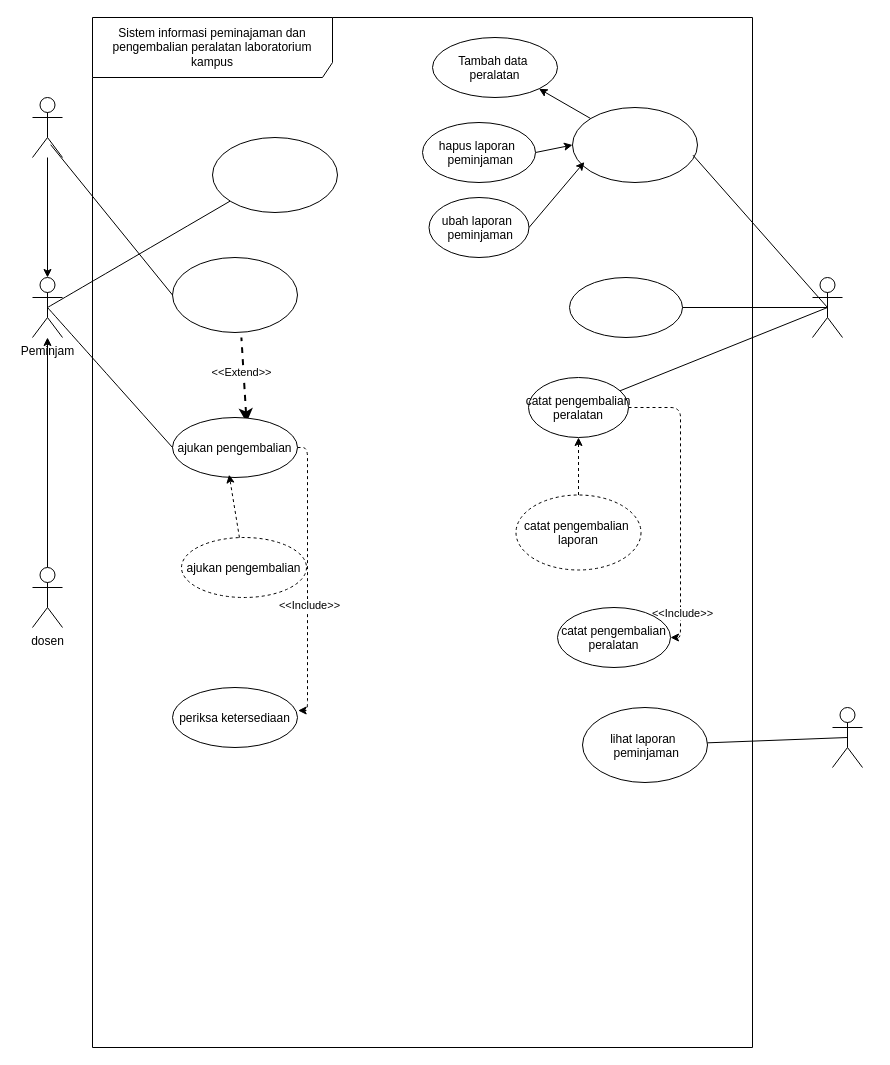
Some shapes in this 890 by 1065 pixel diagram are drawn without their labels. The centre of each missing label's shape, as x and y in pixels:
"cetak bukti pengajuan" goes at (x=235, y=294).
"Kelola data Peralatan" goes at (x=635, y=144).
"Kepala Laboran" goes at (x=847, y=737).
"Lihat Ketersediaan peralatan" goes at (x=275, y=174).
"mahasiswa" goes at (x=47, y=127).
"Petugas Laboran" goes at (x=827, y=307).
"Proses keputusan peminjaman" goes at (x=625, y=307).
